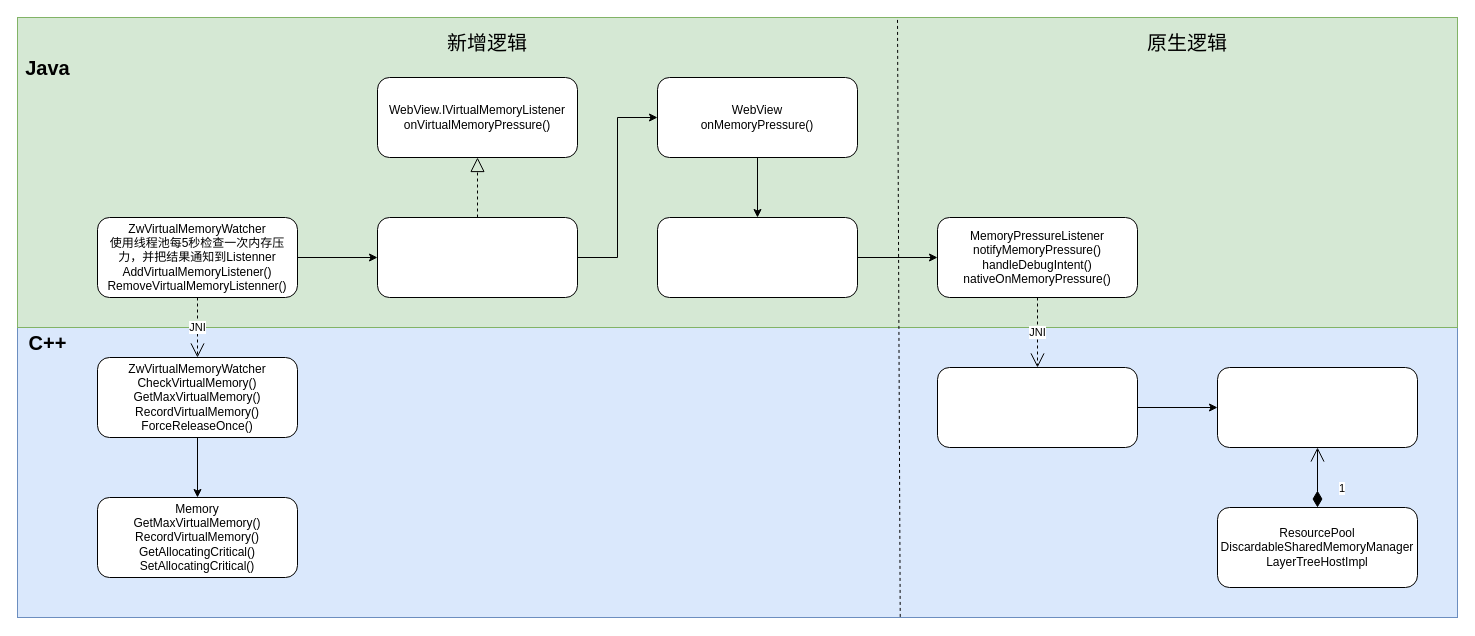
Image size: 1475x636. Some labels were removed from this diagram. Each missing label, with the centre of its shape:
MemoryPressureListener NotifyMomeryPressure() Notify() SyncNotify(): (1317,407)
MemoryPressureListenerAndroid OnMemoryPressure(): (1037,407)
WebViewChromiumFactoryProvider onMemoryPressure(): (757,257)
ZwContentsVMListener 清除ContentCache并继续调用WebView.onMemoryPressure(): (477,257)
